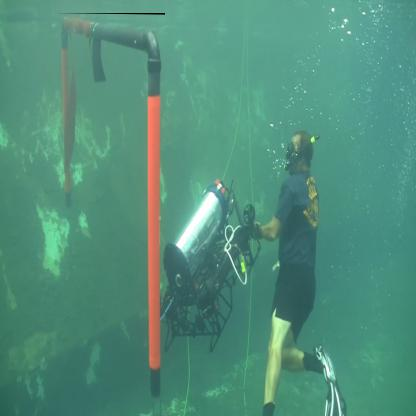gate: (55, 14, 167, 405)
